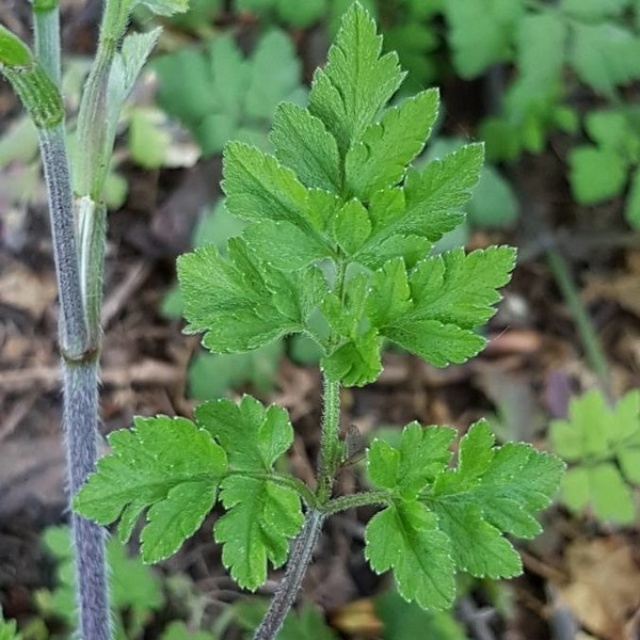obstacle: (75, 26, 548, 604)
